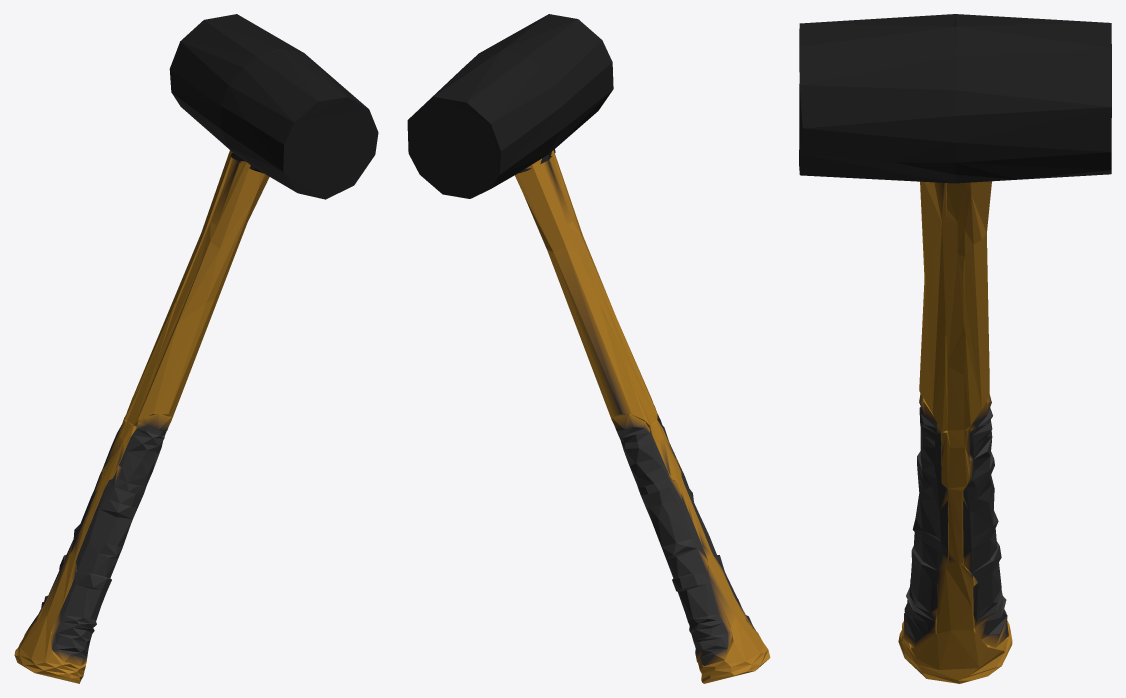
The model's file is mallet.glb.
3 views of the same model, side by side, from view 1: azimuth 30°, elevation 25°; view 2: azimuth 150°, elevation 25°; view 3: azimuth 270°, elevation 25° (orthographic). The views are drawn at different scales.
Parts seen in each view (by area): view 1: geometry_0; view 2: geometry_0; view 3: geometry_0.
Part boxes in pixels (x1,y1,x2,y2): geometry_0: (14,14,378,683); geometry_0: (407,14,770,683); geometry_0: (799,14,1111,683).
Bounding box in the file's own units: 0.8789 × 1.6 × 0.5684.
